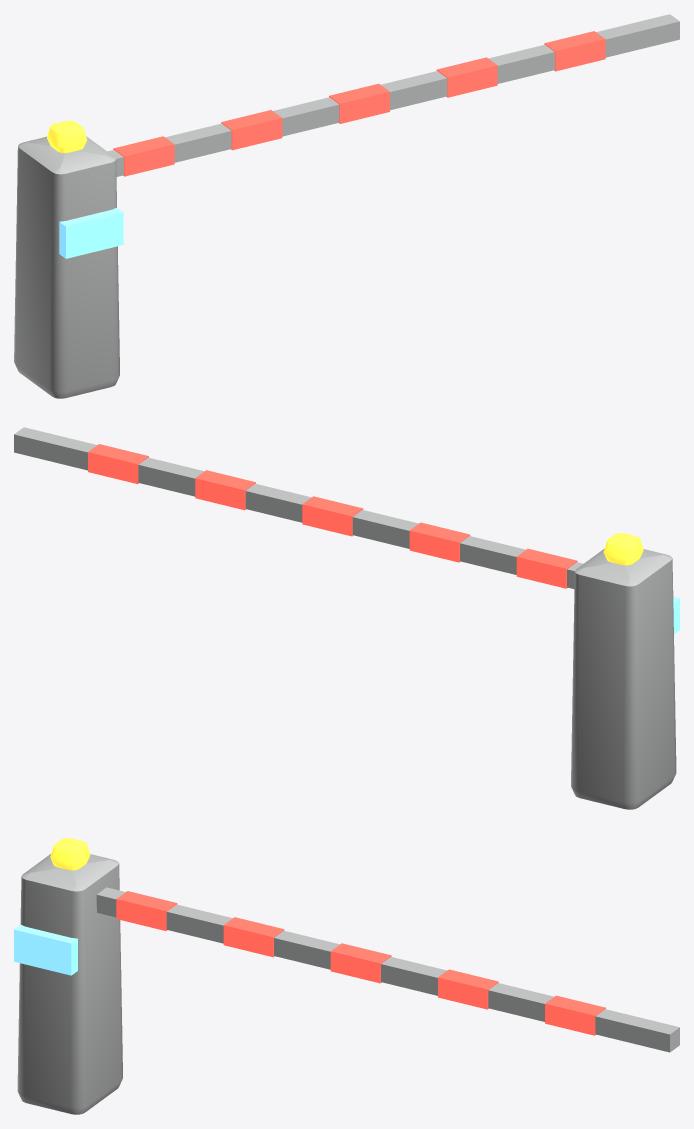
File: car-park-and-road-vehicle-fleet-entry-barrier-7cb4f555.glb
3 renders of one model, top to bottom at view 1: azimuth 30°, elevation 25°; view 2: azimuth 150°, elevation 25°; view 3: azimuth 330°, elevation 25°, orthographic.
Visible parts, largest first — view 1: entry-barrier, barrier-arm/paintD, barrier-arm/lightRed; view 2: entry-barrier, barrier-arm/paintD, barrier-arm/lightRed; view 3: entry-barrier, barrier-arm/paintD, barrier-arm/lightRed.
Part boxes in pixels (box(x1,y1,x2,y2)): entry-barrier: box(14, 120, 123, 398); barrier-arm/paintD: box(107, 14, 679, 176); barrier-arm/lightRed: box(113, 31, 605, 176); entry-barrier: box(571, 533, 679, 809); barrier-arm/paintD: box(14, 427, 583, 588); barrier-arm/lightRed: box(88, 444, 577, 588); entry-barrier: box(14, 838, 122, 1114); barrier-arm/paintD: box(96, 887, 679, 1052); barrier-arm/lightRed: box(116, 891, 605, 1035).
Bounding box in the file's own units: 3.34 × 1.27 × 0.46.
